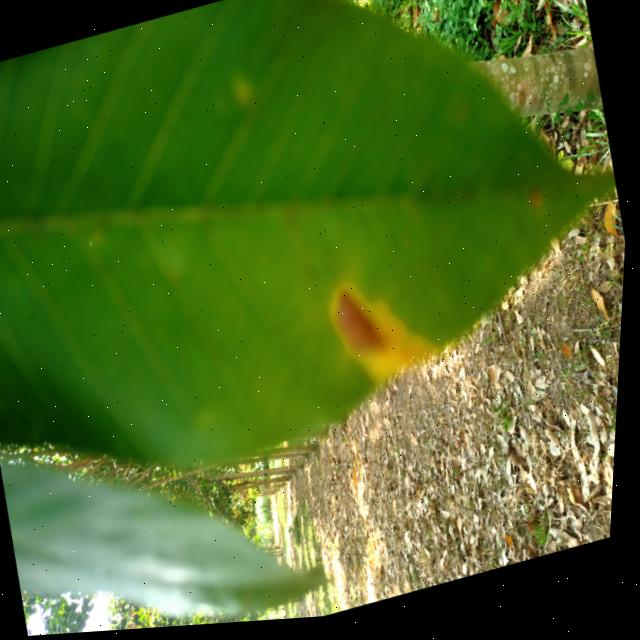Leaf-Blight: (332, 275, 439, 392)
